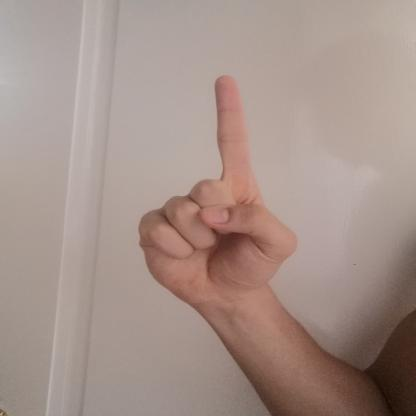BAA: (122, 62, 307, 316)
